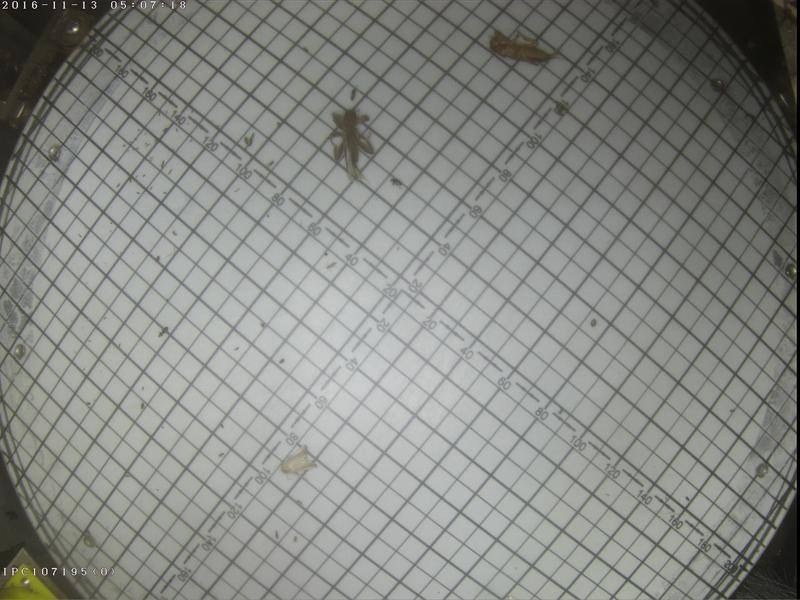Gryllotalpa orientalis: (328, 100, 377, 187), (487, 24, 560, 67)
